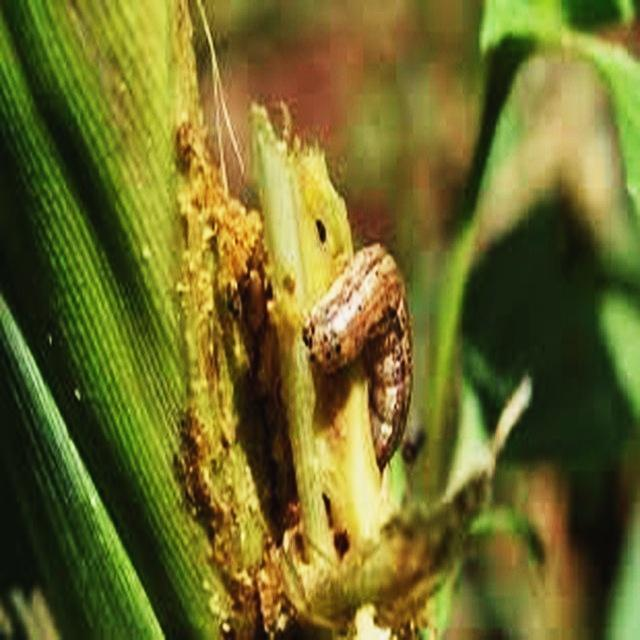gusano_cogollero: (306, 241, 416, 469)
